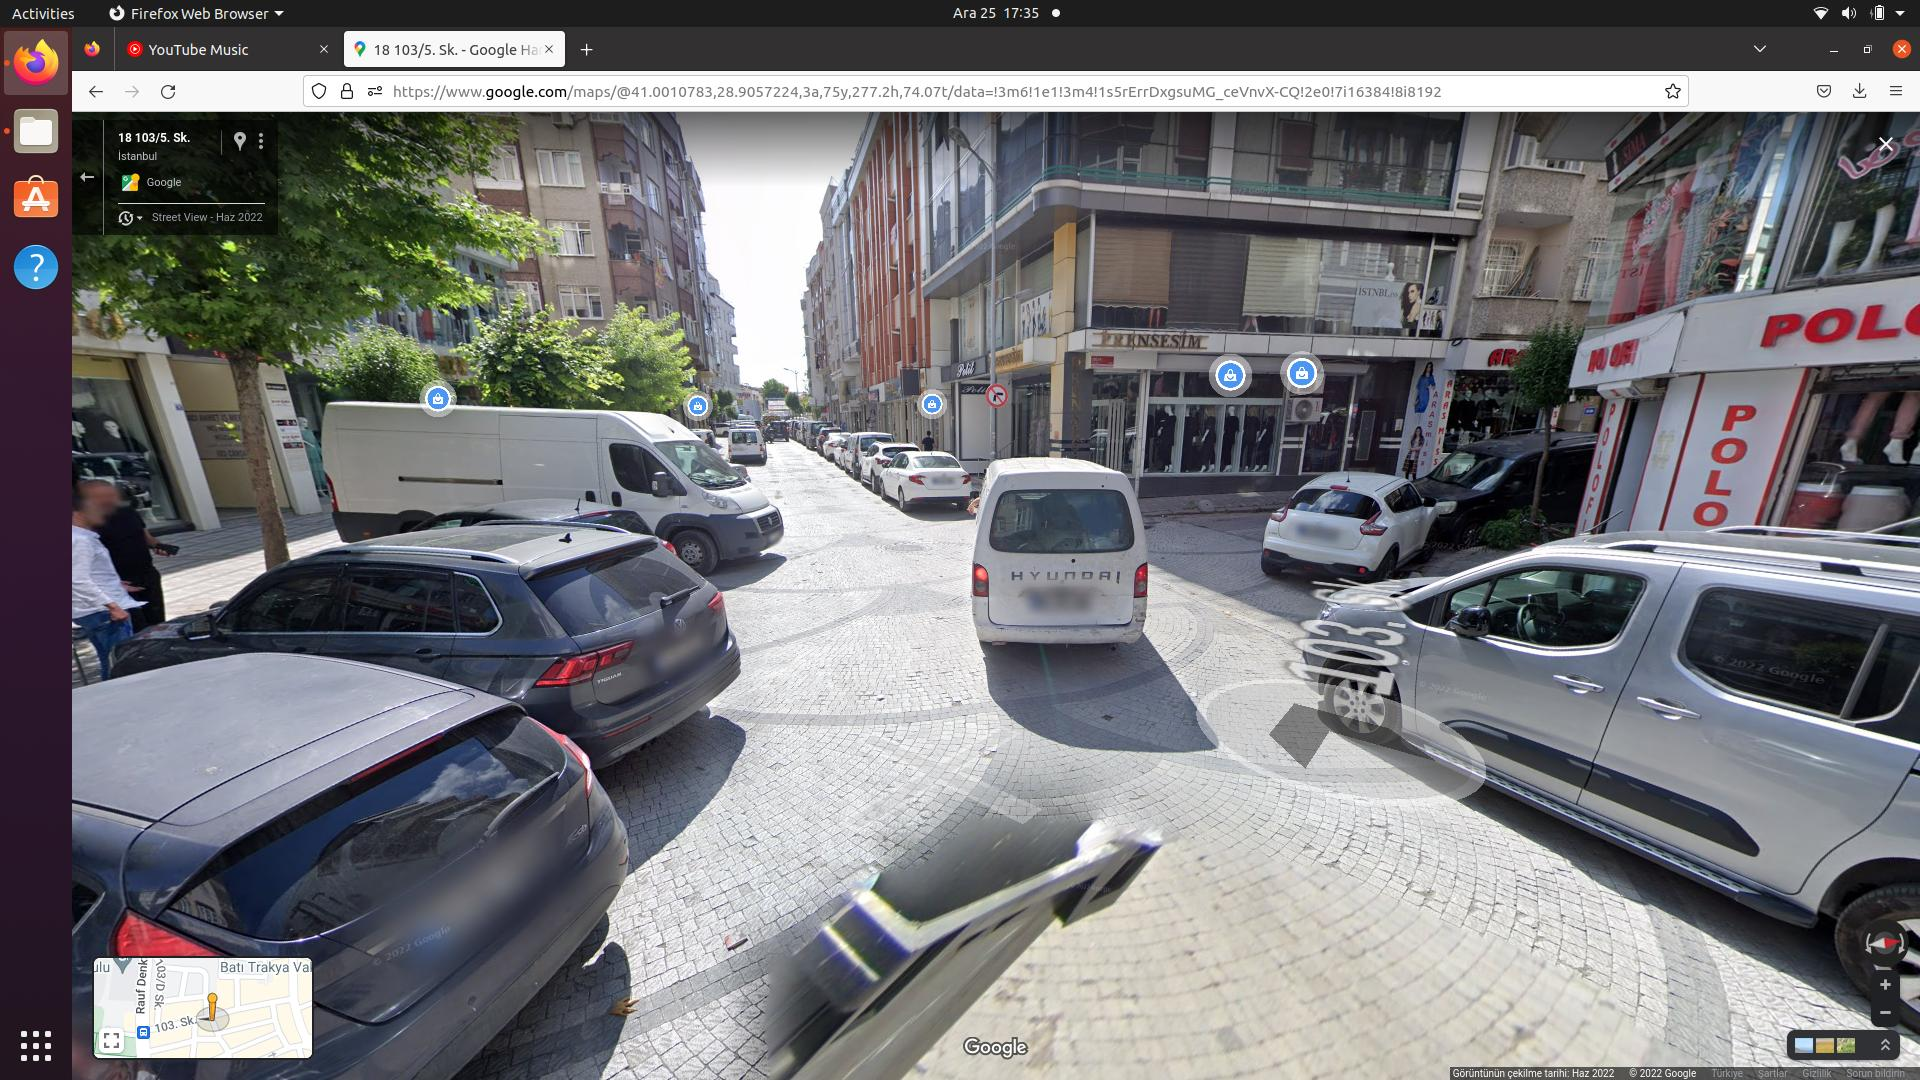rightturnsareforbidden: (986, 384, 1007, 407)
